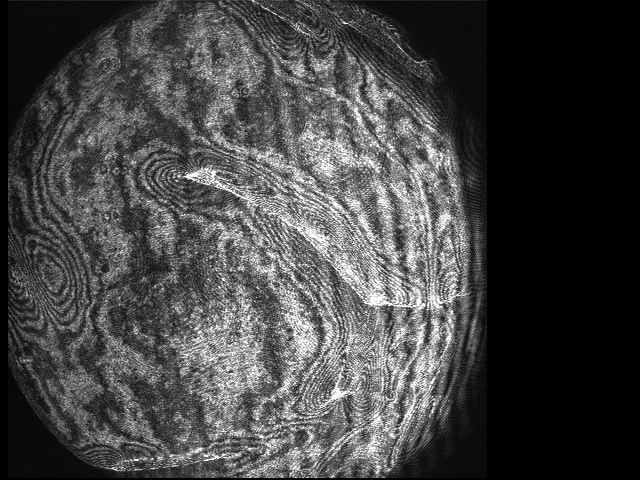plume: (8, 223, 80, 331)
